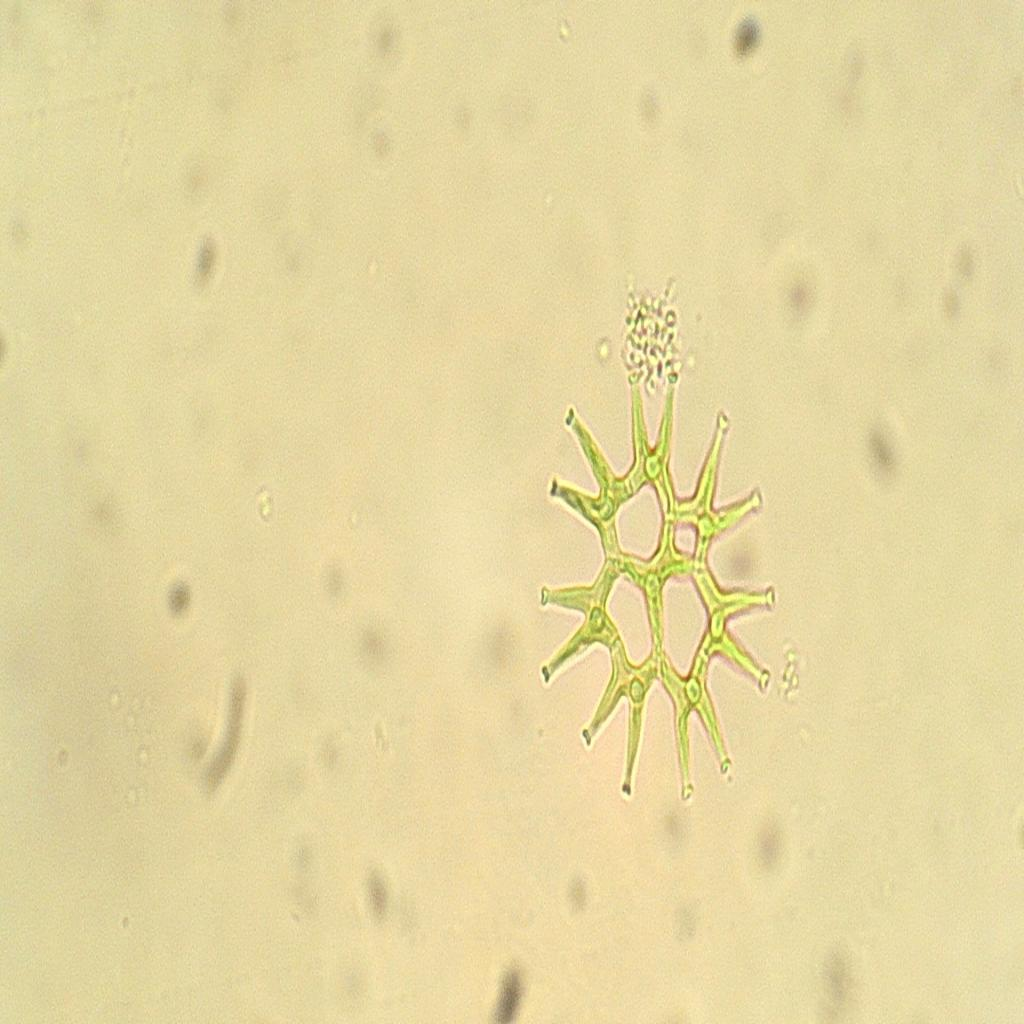Pediastrum_75T: (516, 337, 794, 826)
